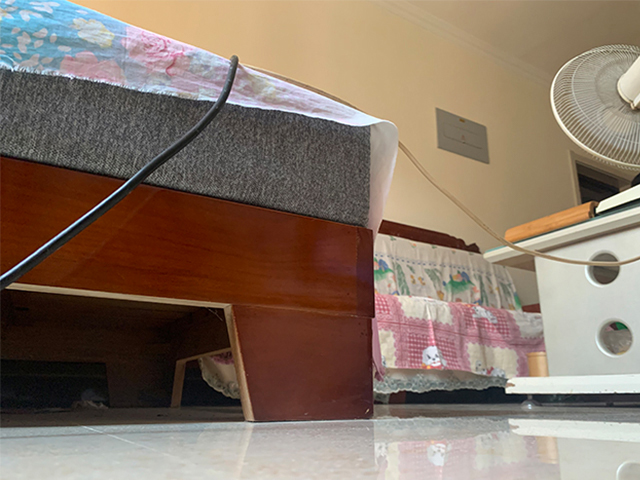sofa: (1, 1, 380, 423), (369, 227, 510, 413)
table: (481, 200, 640, 409)
wire: (1, 54, 236, 283)
